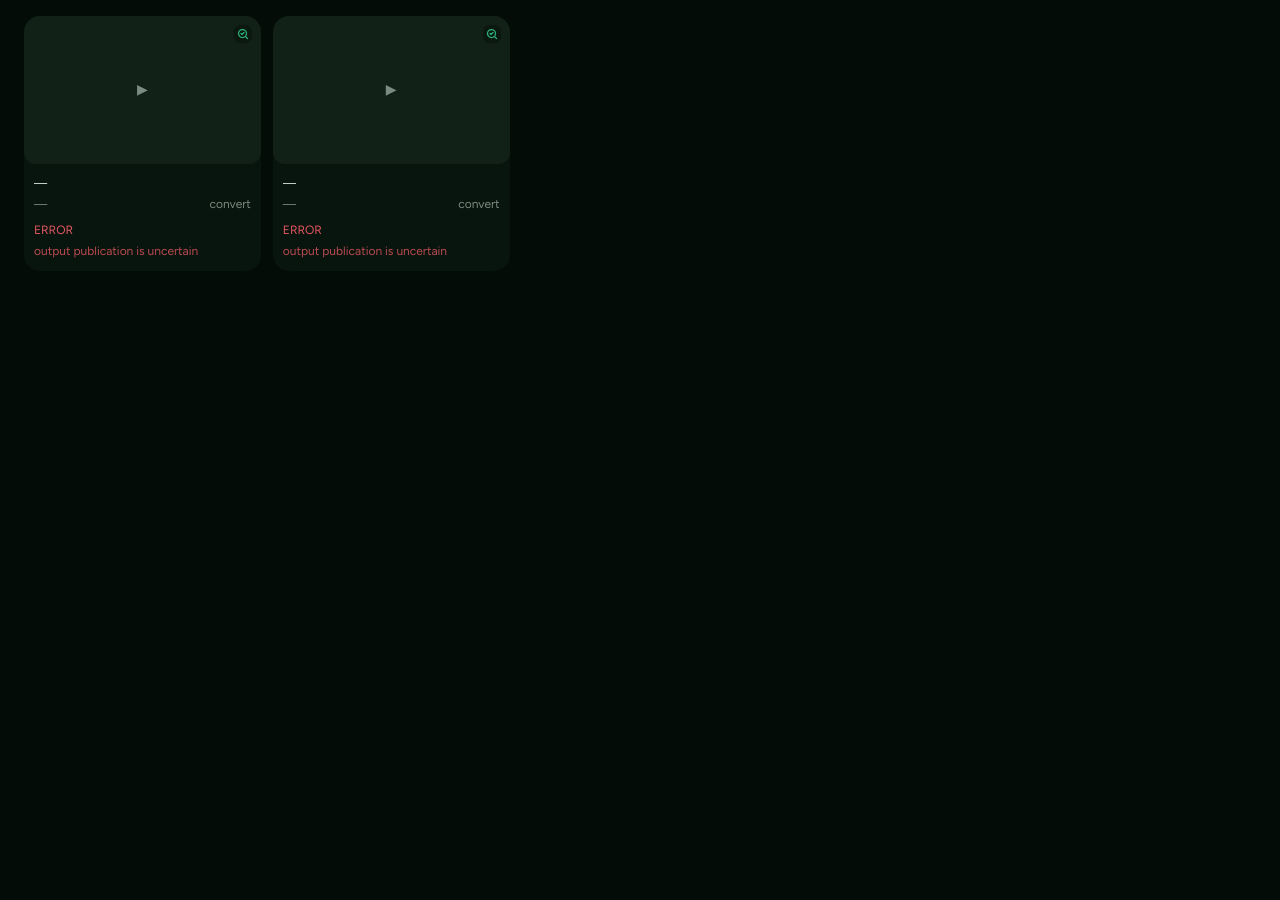
Test: HistoryGrid verified publication review › serializes assessments so two rows cannot race the dialog or focus target
The image size is (1280, 900).
Step 1. Click the button named "job-reviewable)" → (243, 34), box [233,24,253,44]
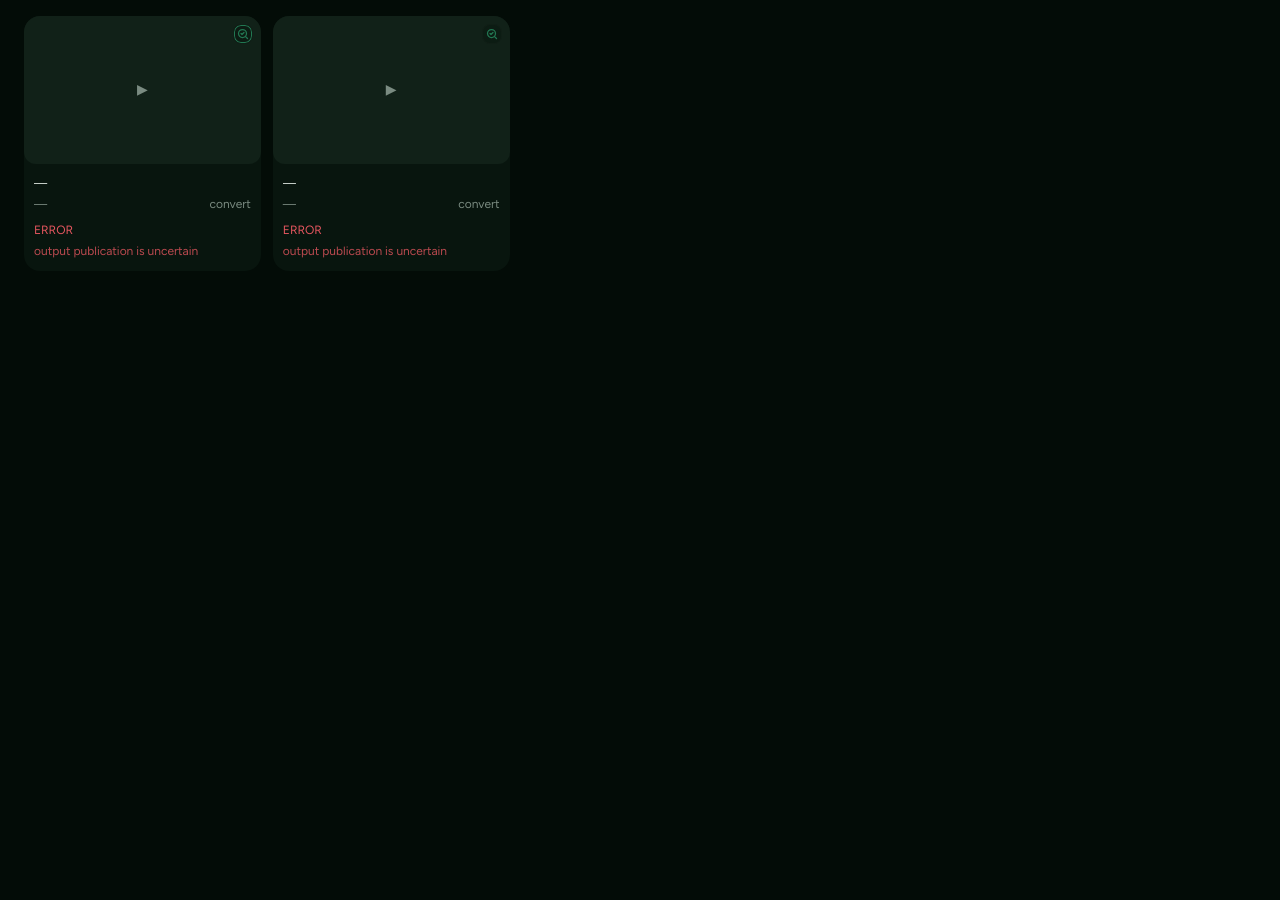
Now the button named "job-reviewable-two" is disabled
Step 2. Click the button named "job-reviewable-two" → (492, 34), box [482,24,502,44]
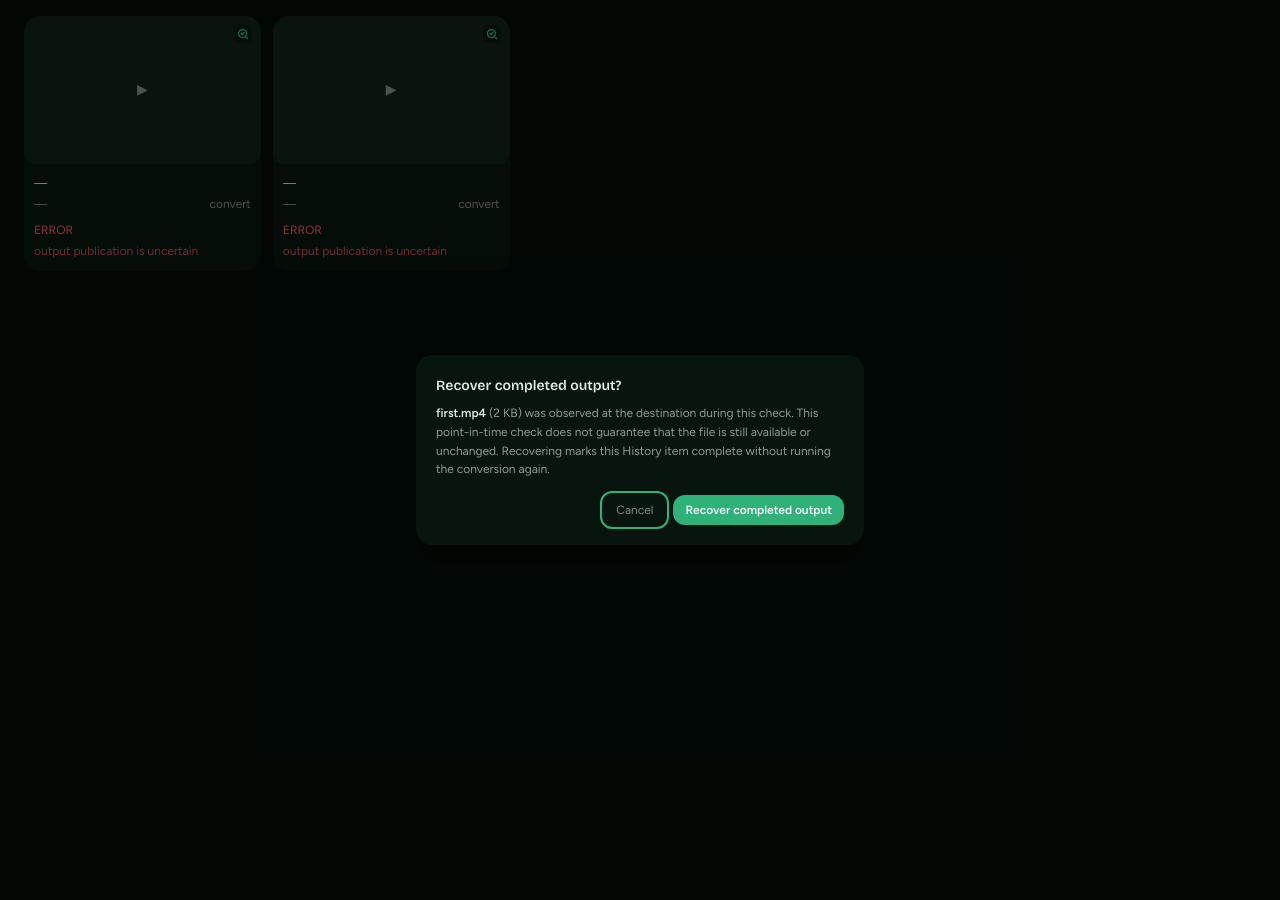
Now the dialog shows "first.mp4", box [436,406,486,420]
